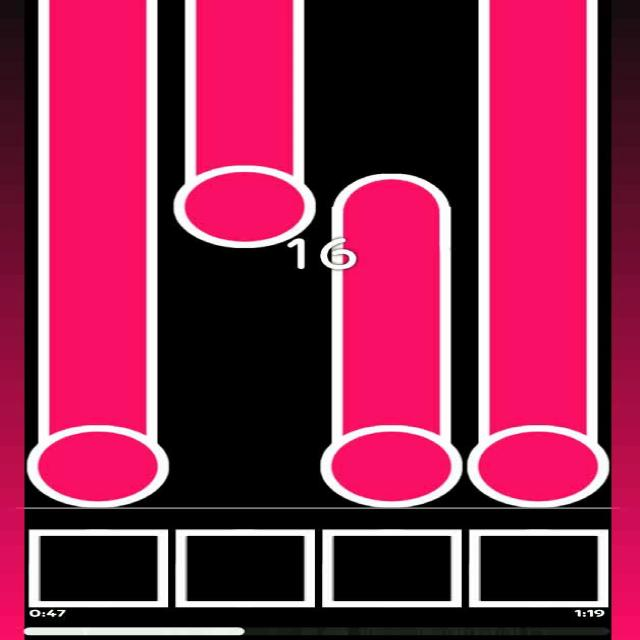end_hold: (328, 168, 456, 218)
start_hold: (172, 142, 317, 248), (26, 403, 168, 506), (467, 407, 610, 507), (321, 406, 462, 507)
